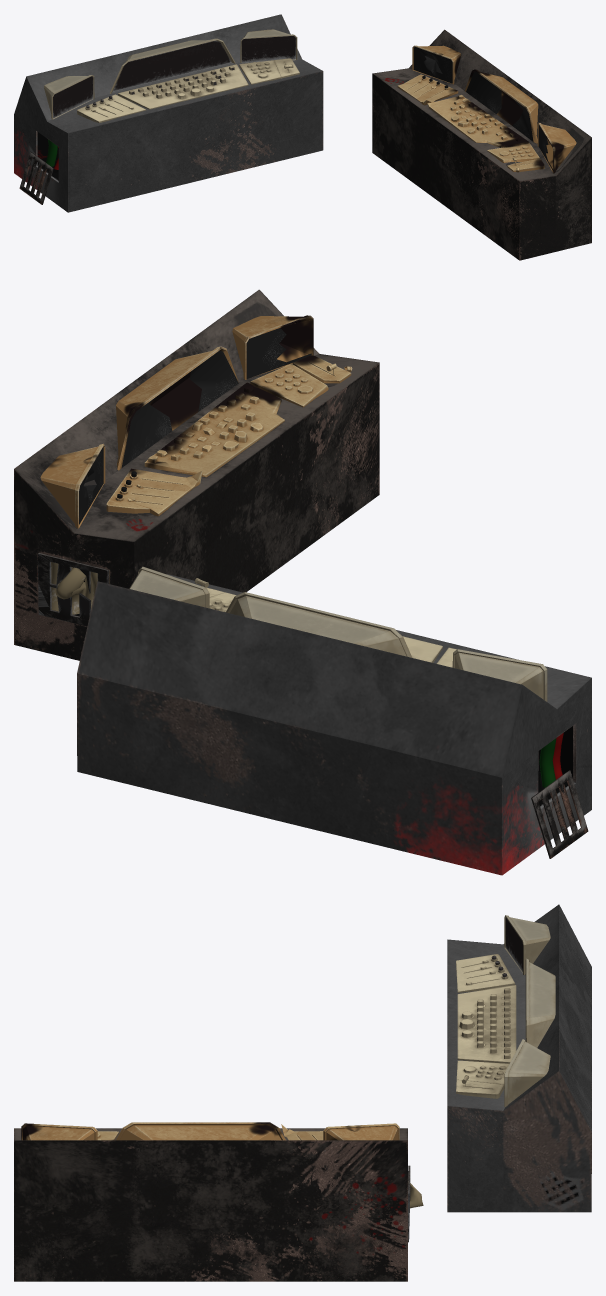
File: escritorio.obj
3 views of the same model, one above another, from view 1: azimuth 30°, elevation 25°; view 2: azimuth 150°, elevation 25°; view 3: azimuth 270°, elevation 25° (orthographic). The views are drawn at different scales.
Visible parts, largest first — view 1: deskold, brokendesk, soloscreenold, keyboardold, brokenkeyboard, brokenscreen, brokensoloscreen, screenold, gridold; view 2: deskold, brokendesk, brokenkeyboard, brokenscreen, screenold, brokensoloscreen, brokengrid, gridold, keyboardold, brokencables.001, cablesold; view 3: brokendesk, deskold, keyboardold, brokenscreen, screenold, brokenkeyboard, soloscreenold.
Boxes of the visible parts, bbox=[...] form: deskold: bbox=[14, 14, 323, 212]; brokendesk: bbox=[372, 29, 591, 260]; soloscreenold: bbox=[53, 35, 295, 118]; keyboardold: bbox=[77, 58, 299, 122]; brokenkeyboard: bbox=[397, 74, 544, 172]; brokenscreen: bbox=[412, 45, 576, 173]; brokensoloscreen: bbox=[413, 47, 553, 170]; screenold: bbox=[44, 29, 297, 119]; gridold: bbox=[19, 151, 53, 204]; deskold: bbox=[77, 574, 591, 875]; brokendesk: bbox=[14, 289, 379, 660]; brokenkeyboard: bbox=[106, 355, 352, 516]; brokenscreen: bbox=[40, 315, 313, 528]; screenold: bbox=[129, 566, 547, 701]; brokensoloscreen: bbox=[79, 328, 311, 524]; brokengrid: bbox=[38, 553, 108, 626]; gridold: bbox=[531, 770, 588, 858]; keyboardold: bbox=[194, 578, 456, 667]; brokencables.001: bbox=[51, 562, 109, 614]; cablesold: bbox=[538, 733, 563, 791]; brokendesk: bbox=[14, 1128, 407, 1281]; deskold: bbox=[447, 904, 591, 1212]; keyboardold: bbox=[456, 954, 516, 1098]; brokenscreen: bbox=[21, 1122, 399, 1140]; screenold: bbox=[504, 915, 555, 1107]; brokenkeyboard: bbox=[97, 1124, 323, 1140]; soloscreenold: bbox=[505, 918, 522, 972].
Size of the model in its own units: 10.34 by 2.87 by 10.35.
